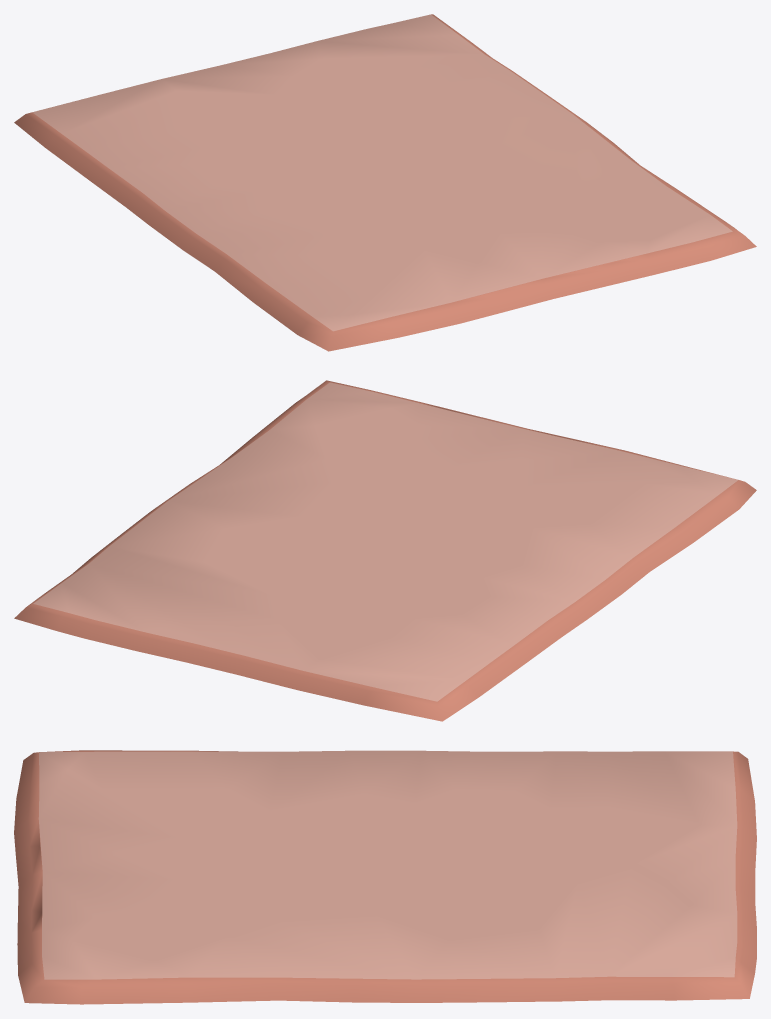
Rendered from ground_006.glb.
3 renders of one model, top to bottom at view 1: azimuth 30°, elevation 25°; view 2: azimuth 150°, elevation 25°; view 3: azimuth 270°, elevation 25°, orthographic. The views are drawn at different scales.
Visible parts, largest first — view 1: ground_006.007; view 2: ground_006.007; view 3: ground_006.007.
Boxes of the visible parts, x1,y1,x2,y2 form: ground_006.007: (14, 14, 756, 351); ground_006.007: (14, 380, 756, 721); ground_006.007: (14, 750, 756, 1004).
Size of the model in its own units: 57.25 by 1.6 by 72.55.
1 material, 1 textured.
